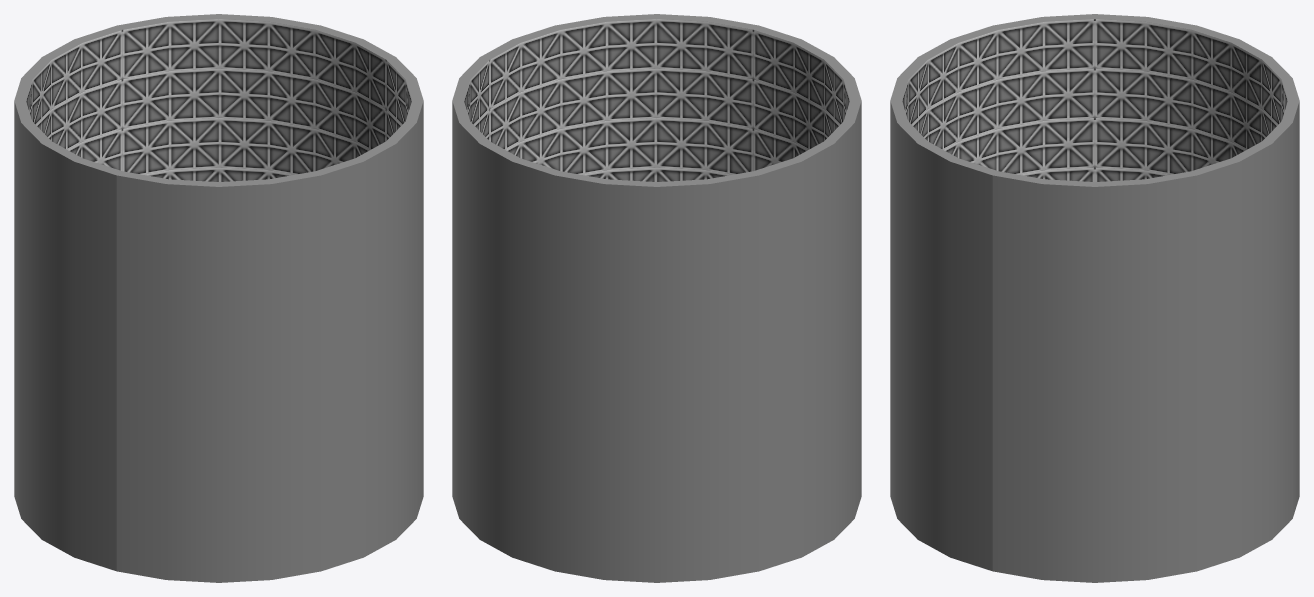
The model's file is KargoBay.FBX.
3 views of the same model, side by side, from view 1: azimuth 30°, elevation 25°; view 2: azimuth 150°, elevation 25°; view 3: azimuth 270°, elevation 25° (orthographic).
Parts seen in each view (by area): view 1: BayCover, MainBody; view 2: MainBody, BayCover; view 3: MainBody, BayCover.
Part boxes in pixels (x1,y1,x2,y2): BayCover: (116, 100, 423, 582); MainBody: (14, 14, 423, 571); MainBody: (452, 25, 861, 582); BayCover: (555, 14, 861, 181); MainBody: (992, 14, 1299, 582); BayCover: (890, 25, 998, 571).
Size of what is drawn, in the model's own units: 1.87 by 2 by 1.87.
